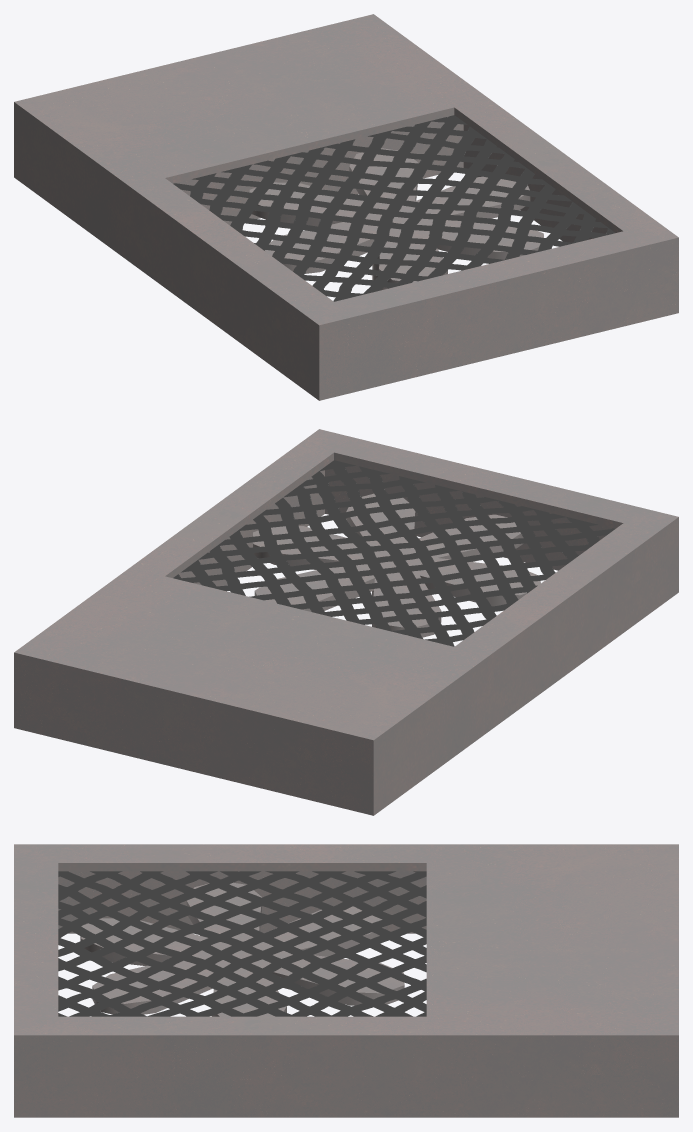
The model's file is helice d'aération.fbx.
3 renders of one model, top to bottom at view 1: azimuth 30°, elevation 25°; view 2: azimuth 150°, elevation 25°; view 3: azimuth 270°, elevation 25°, orthographic. The views are drawn at different scales.
Visible parts, largest first — view 1: Object007; view 2: Object007; view 3: Object007.
Boxes of the visible parts, box(x1,y1,x2,y2) form: Object007: box(14, 14, 678, 400); Object007: box(14, 429, 678, 815); Object007: box(14, 844, 678, 1117).
Size of the model in its own units: 38.72 by 8.1 by 56.9.
